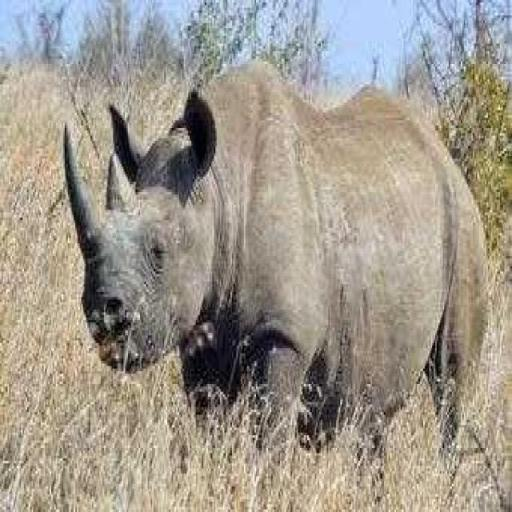Rhino: (60, 54, 491, 479)
